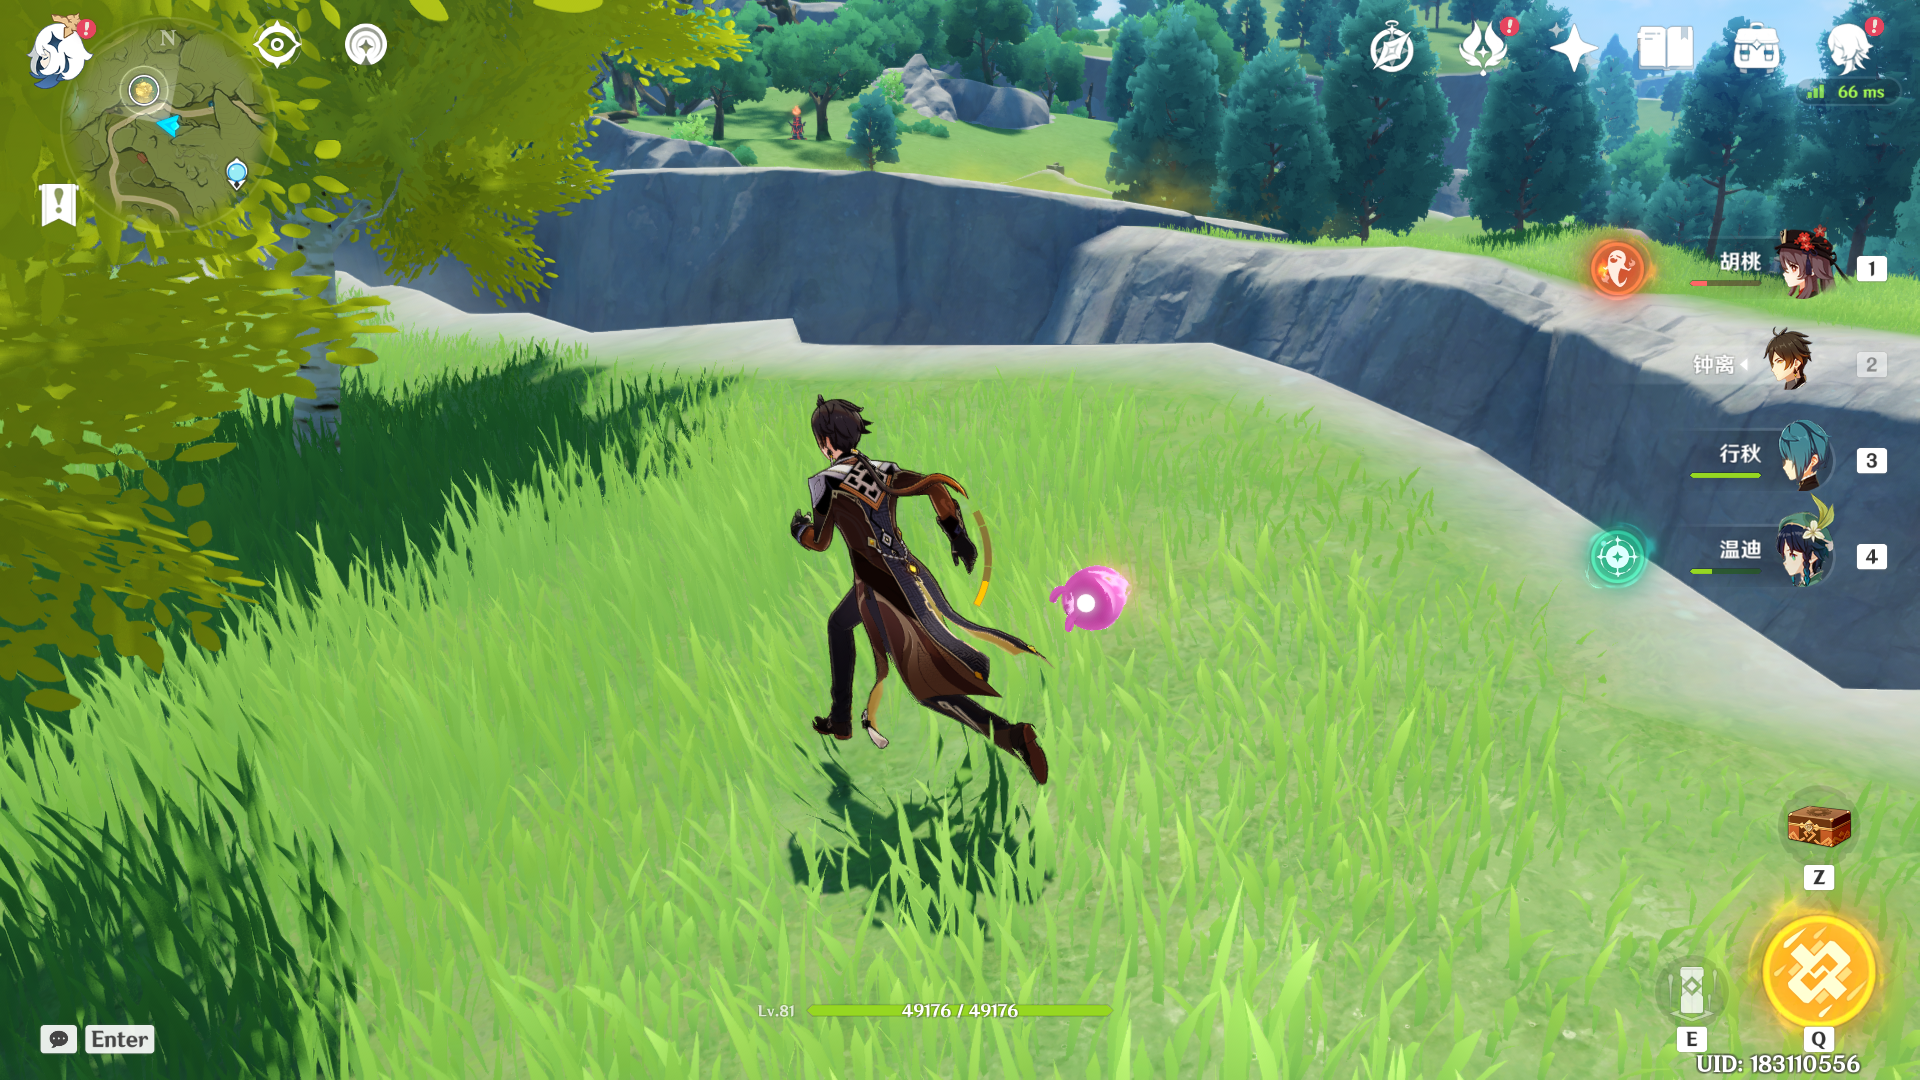character: (738, 369, 1106, 855)
